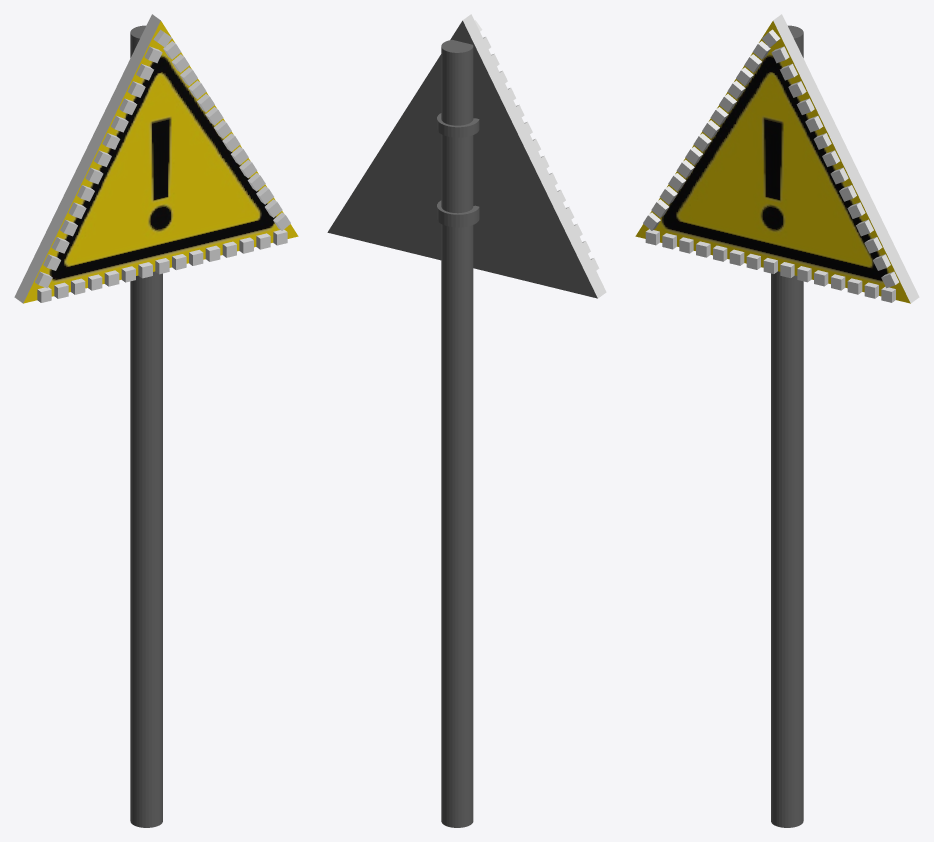
File: VERKEERSBORD 1.fbx
3 views of the same model, side by side, from view 1: azimuth 30°, elevation 25°; view 2: azimuth 150°, elevation 25°; view 3: azimuth 330°, elevation 25° (orthographic).
Parts seen in each view (by area): view 1: Circle, Cylinder, Cube.002, Cube; view 2: Circle, Cylinder, Cube.002; view 3: Circle, Cylinder, Cube.002, Cube.
Boxes of the visible parts, left/top/right/bottom form: Circle: left=14, top=14, right=298, bottom=303; Cylinder: left=130, top=25, right=162, bottom=827; Cube.002: left=35, top=29, right=290, bottom=288; Cube: left=37, top=229, right=287, bottom=302; Circle: left=327, top=14, right=606, bottom=298; Cylinder: left=437, top=39, right=479, bottom=827; Cube.002: left=475, top=20, right=599, bottom=270; Circle: left=635, top=14, right=919, bottom=303; Cylinder: left=771, top=25, right=803, bottom=827; Cube.002: left=643, top=29, right=898, bottom=288; Cube: left=645, top=229, right=895, bottom=302.
Size of the model in its own units: 390 by 1098 by 68.92.
